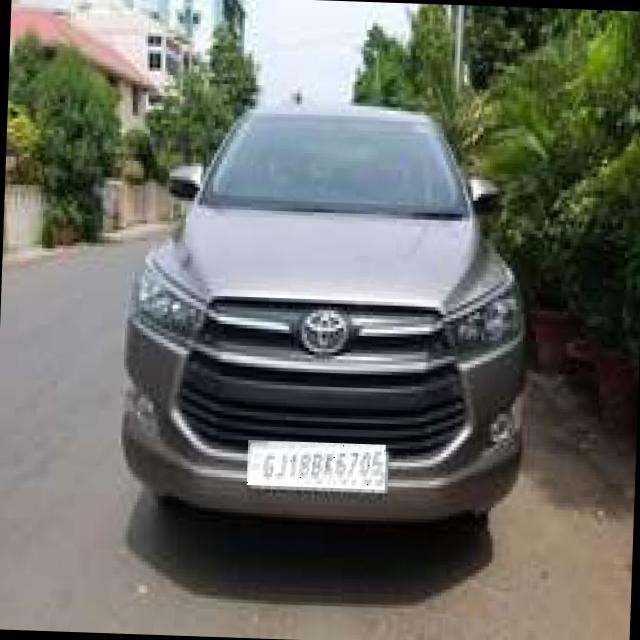Plate: (248, 441, 387, 491)
